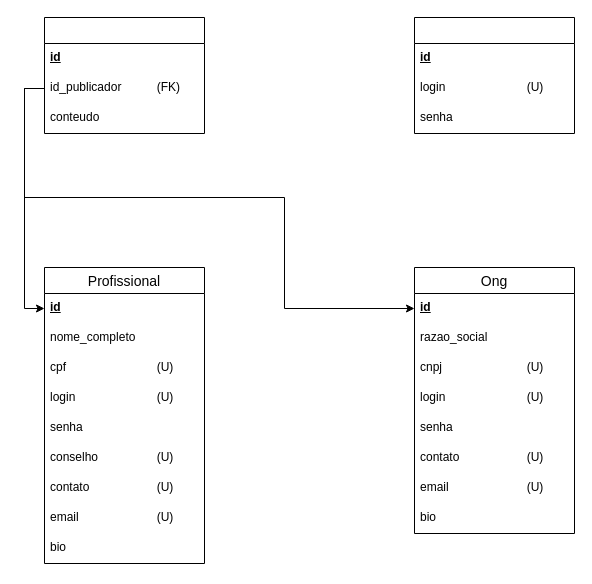
Some shapes in this 592 by 584 pixel diagram are drawn without their labels. The box of each missing label's shape, as (x1, y1, x2, y2) in pixels:
Administrador: (414, 16, 574, 134)
Relato: (44, 16, 204, 134)
